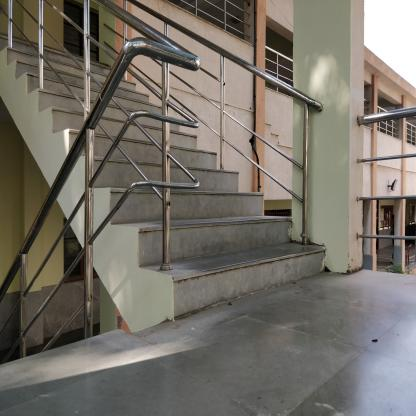stairs: (178, 192, 266, 316)
